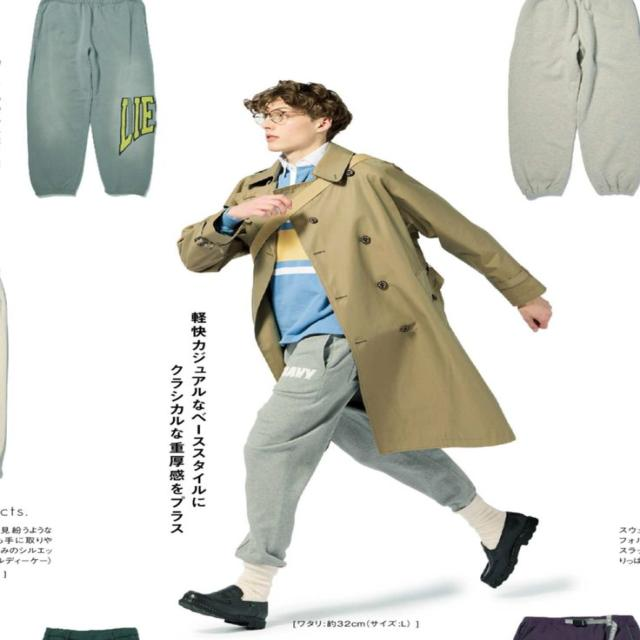person: (175, 79, 552, 630)
